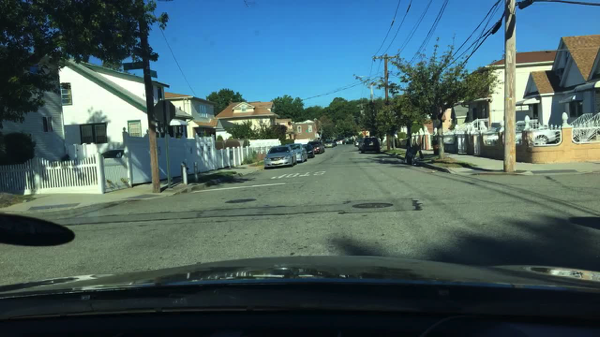car: (478, 122, 558, 147), (264, 144, 297, 169), (357, 135, 381, 155), (286, 143, 308, 162), (307, 140, 325, 154), (100, 148, 123, 158), (301, 144, 316, 159), (324, 140, 333, 148), (354, 139, 362, 146), (337, 139, 346, 145), (331, 141, 337, 147)
traffic sign: (154, 98, 176, 125), (123, 61, 146, 71), (149, 69, 159, 79)
